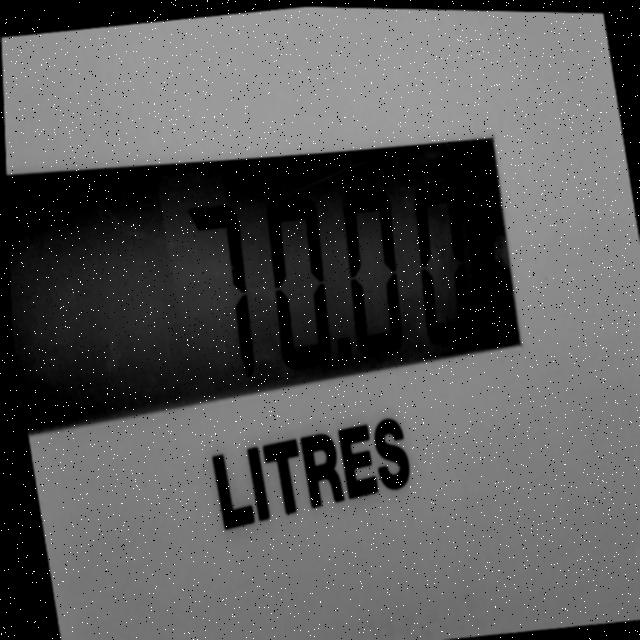.: (327, 328, 359, 374)
0: (315, 168, 417, 360), (241, 176, 337, 374), (395, 161, 480, 344)
7: (165, 172, 268, 392)
